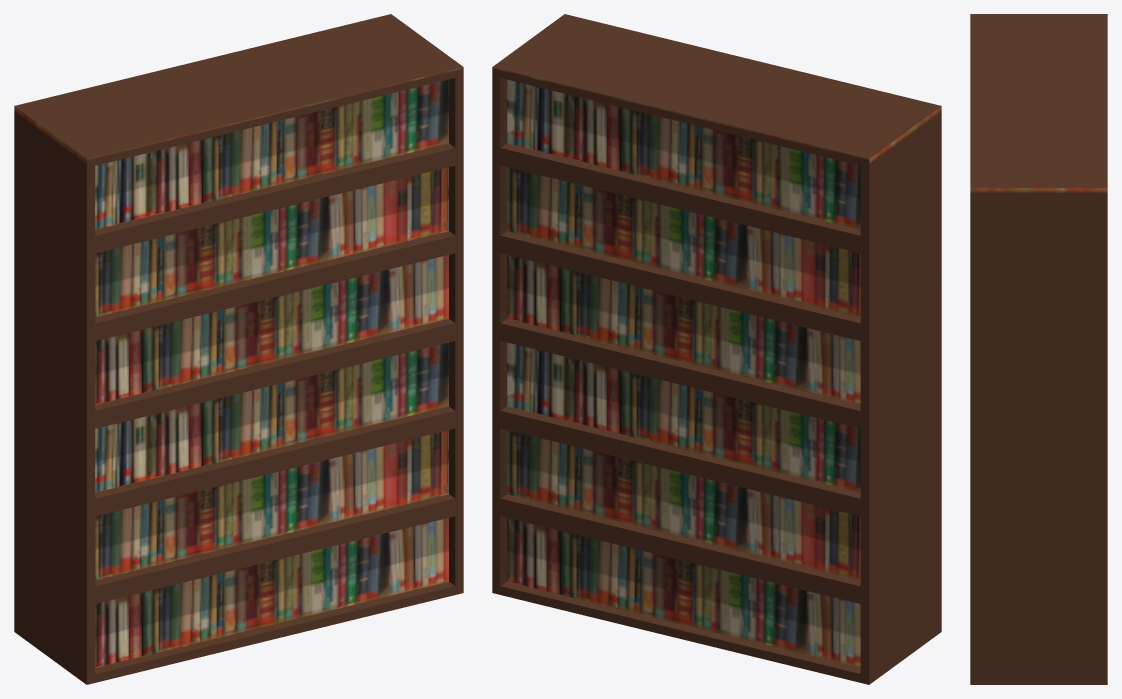
The model's file is decor_Bookshelf.fbx.
The picture shows the model from 3 angles, left to right: view 1: azimuth 30°, elevation 25°; view 2: azimuth 150°, elevation 25°; view 3: azimuth 270°, elevation 25°; orthographic projection. The views are drawn at different scales.
Visible parts, largest first — view 1: Bookshelf; view 2: Bookshelf; view 3: Bookshelf.
Boxes of the visible parts, <box> form: Bookshelf: <box>14,14,463,684</box>; Bookshelf: <box>492,14,941,684</box>; Bookshelf: <box>970,14,1107,684</box>.
Size of the model in its own units: 600 by 800 by 200.
1 material, 1 textured.
